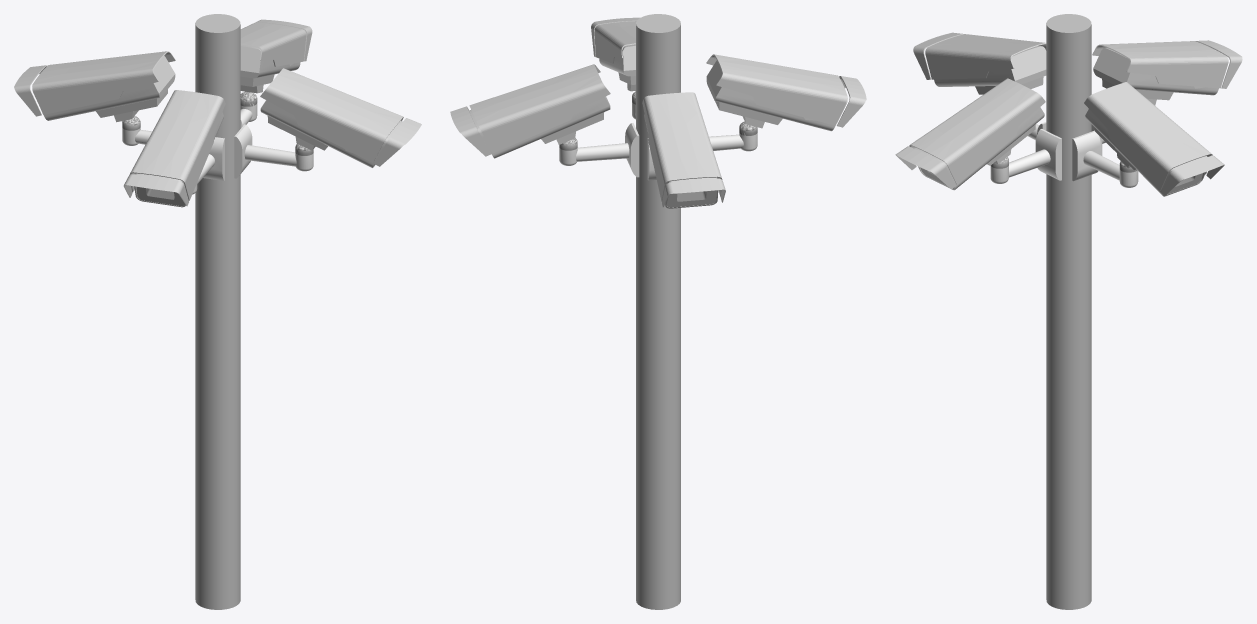
File: cluster19.gltf
The picture shows the model from 3 angles, left to right: view 1: azimuth 30°, elevation 25°; view 2: azimuth 150°, elevation 25°; view 3: azimuth 270°, elevation 25°; orthographic projection.
Parts seen in each view (by area): view 1: root; view 2: root; view 3: root.
Boxes of the visible parts, x1=… form: root: x1=14, y1=14, x2=421, y2=609; root: x1=450, y1=14, x2=866, y2=609; root: x1=895, y1=14, x2=1242, y2=609.
Size of the model in its own units: 30.4 by 55.78 by 30.4.
5 materials, 1 textured.
